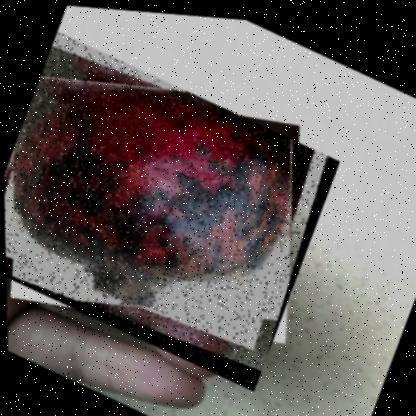pomegranate_rotten: (0, 25, 344, 395)
